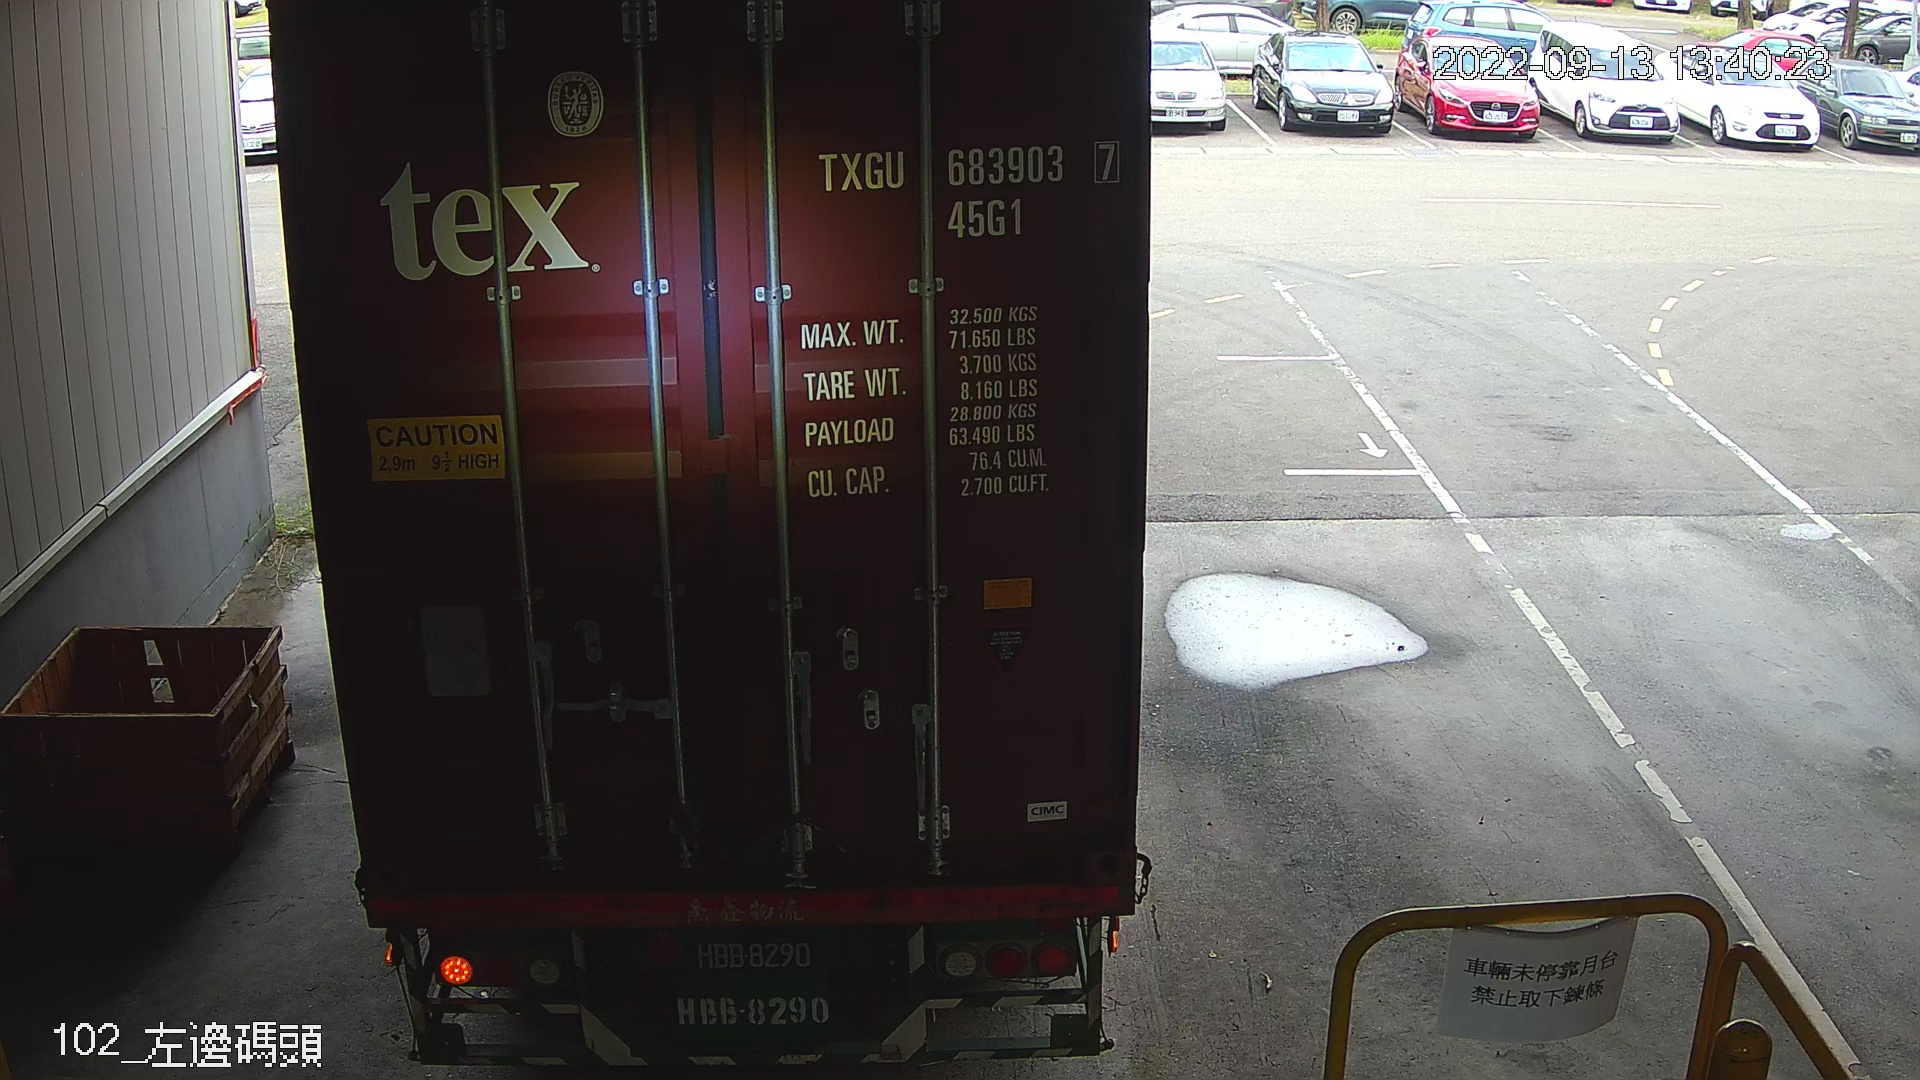container: (806, 132, 1129, 249)
